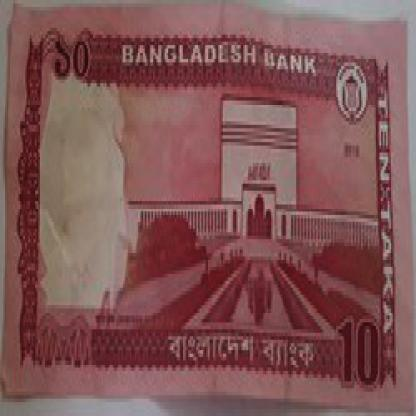Ten Taka: (335, 312, 386, 392), (50, 24, 93, 101)
